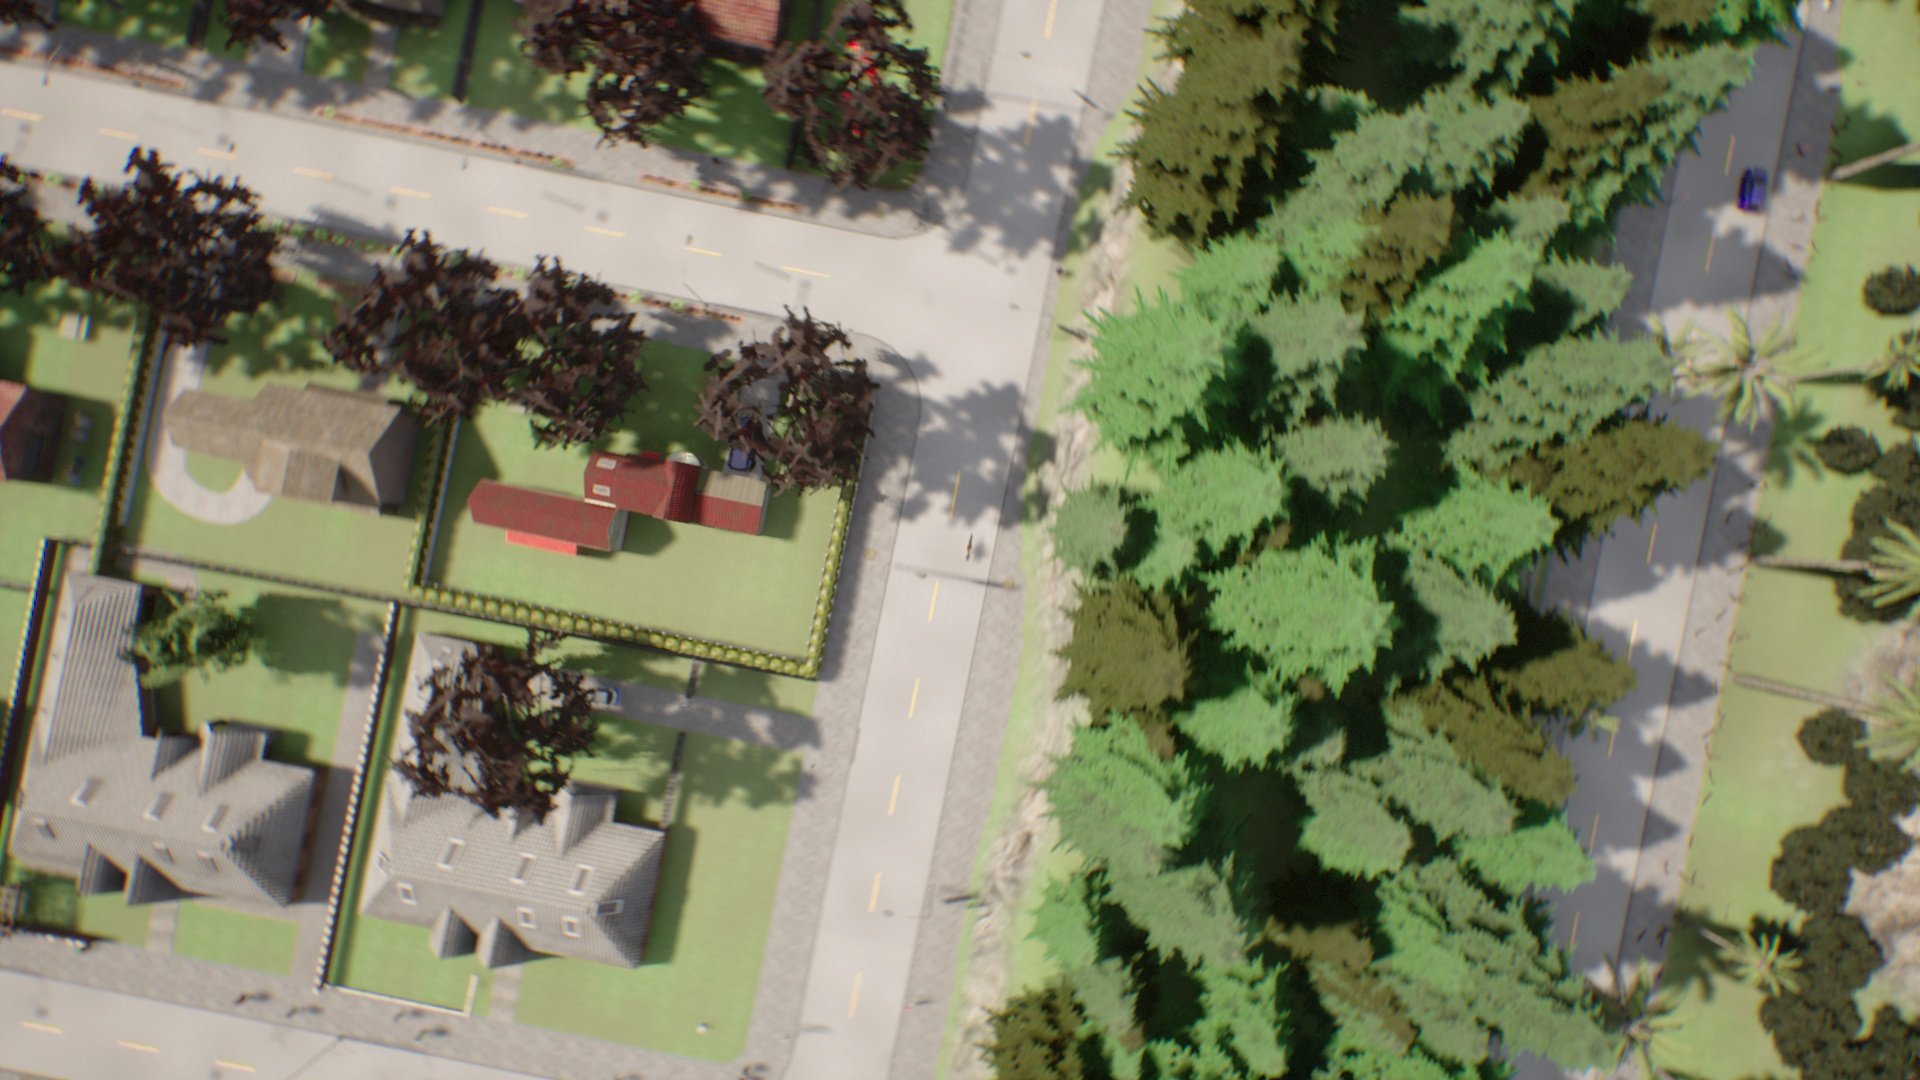Bicycle: (967, 533, 977, 564)
Car: (1742, 163, 1770, 217), (725, 442, 756, 470)
